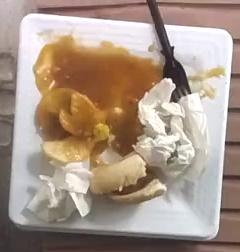bun: (90, 153, 167, 203)
fries: (36, 88, 109, 162)
